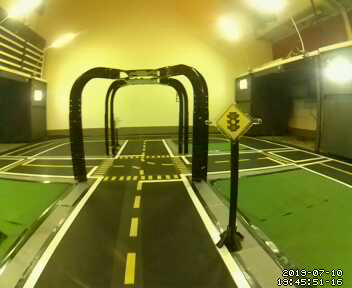Traffic light sign: (215, 103, 251, 142)
